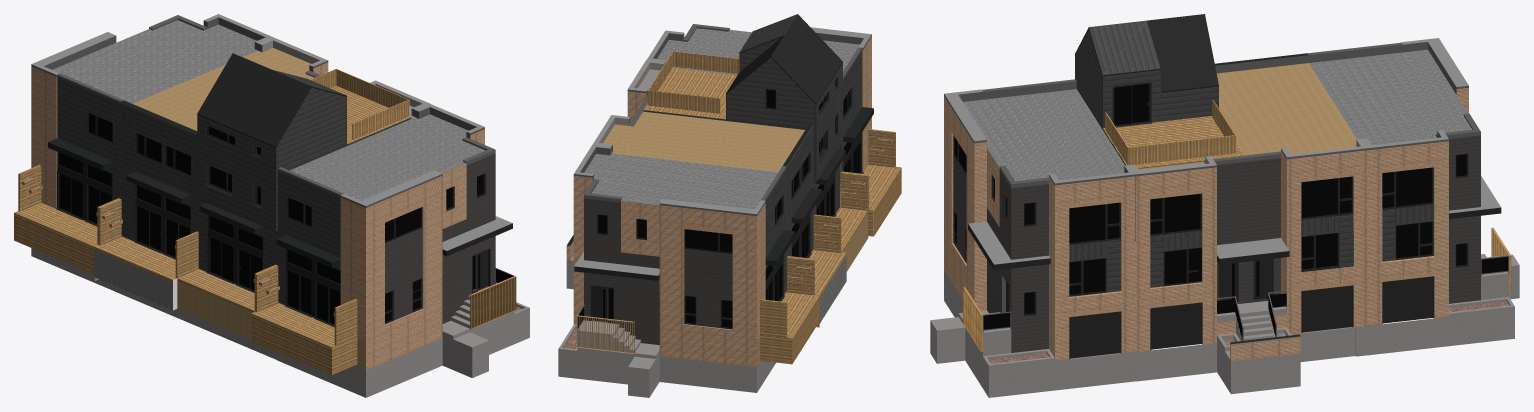
The picture shows the model from 3 angles, left to right: view 1: azimuth 30°, elevation 25°; view 2: azimuth 150°, elevation 25°; view 3: azimuth 270°, elevation 25°; orthographic projection. The views are drawn at different scales.
Visible parts, largest first — view 1: Object003; view 2: Object003; view 3: Object003.
Part boxes in pixels (x1,y1,x2,y2): Object003: [14, 14, 529, 397]; Object003: [558, 14, 901, 397]; Object003: [930, 14, 1519, 397].
Size of the model in its own units: 732 by 571 by 1088.
Materials: 24 (18 with a texture image).
